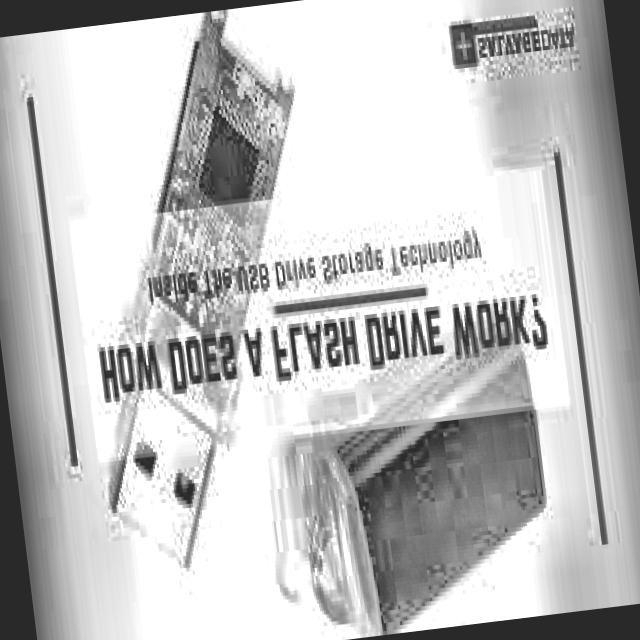Mug: (86, 37, 314, 587)
